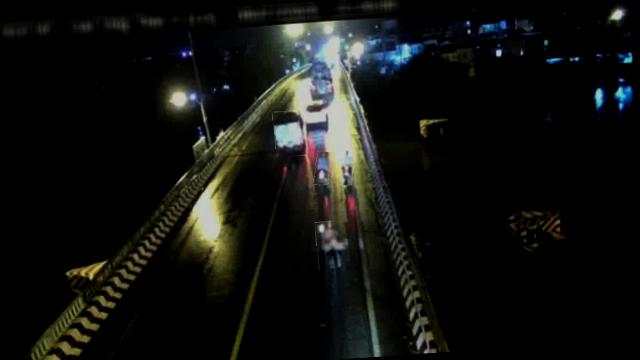Bike: (316, 220, 346, 270), (336, 147, 356, 185), (313, 150, 332, 186)
Car: (301, 100, 328, 124)
Truck: (272, 109, 307, 157)
